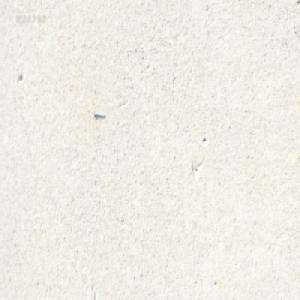Nail: (92, 109, 105, 117)
